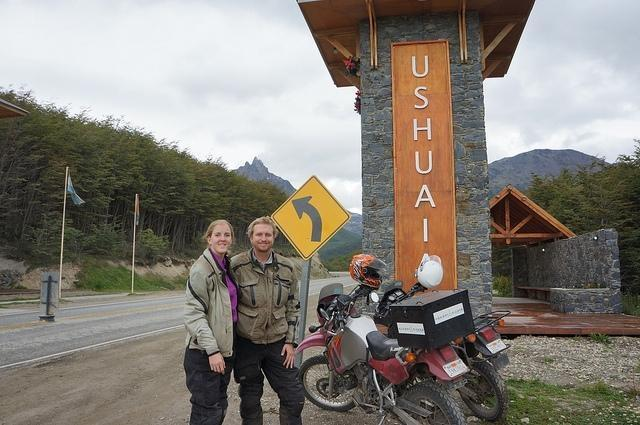motorcycle: (296, 253, 469, 425), (376, 263, 518, 420)
